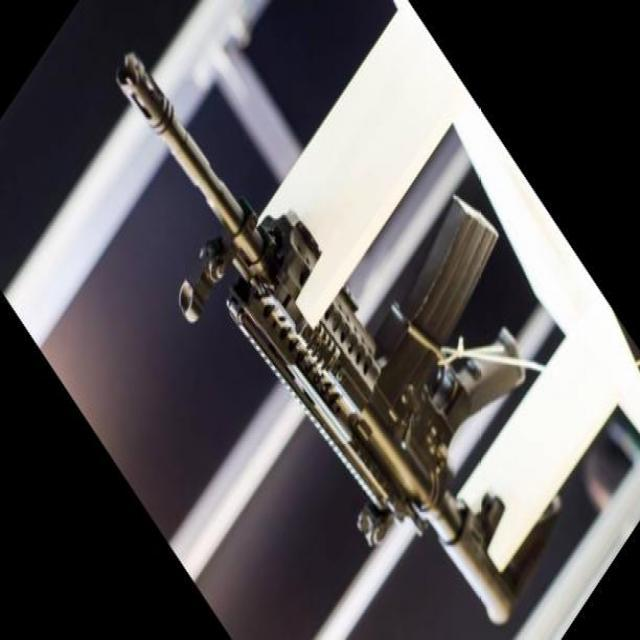weapon: (116, 55, 527, 624)
